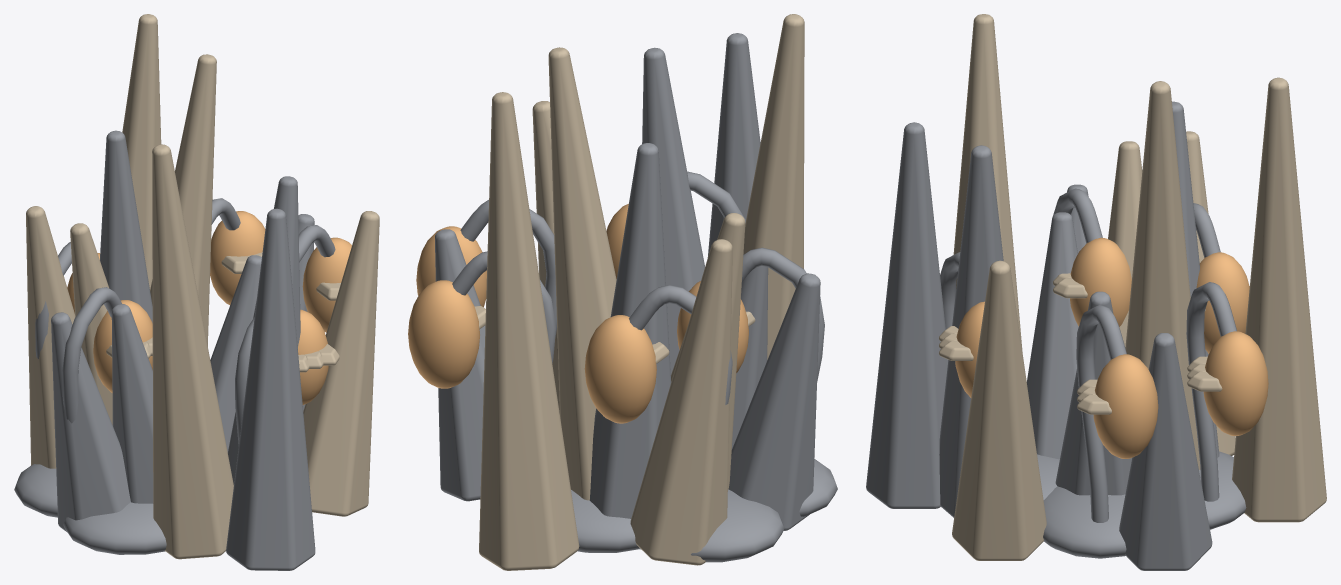
File: bio_crystal_fan_23_near.glb
3 views of the same model, side by side, from view 1: azimuth 30°, elevation 25°; view 2: azimuth 150°, elevation 25°; view 3: azimuth 270°, elevation 25° (orthographic). The views are drawn at different scales.
Visible parts, largest first — view 1: Reflecting mineral prism.007, Reflecting mineral prism.002, Reflecting mineral prism.005, Reflecting mineral prism.004, Reflecting mineral prism.001, Reflecting mineral prism.003, Reflecting mineral prism.012, Reflecting mineral prism.011, Reflecting mineral prism.006, Mineral substrate, Reflecting mineral prism, Reflecting mineral prism.009 (+12 smaller); view 2: Reflecting mineral prism.011, Reflecting mineral prism.001, Reflecting mineral prism.003, Reflecting mineral prism.004, Reflecting mineral prism.006, Reflecting mineral prism.007, Reflecting mineral prism.010, Mineral substrate, Reflecting mineral prism.008, Reflecting mineral prism.002, Pendant spore capsule.001, Pendant spore capsule.003 (+11 smaller); view 3: Reflecting mineral prism.011, Reflecting mineral prism.002, Reflecting mineral prism.005, Reflecting mineral prism.008, Reflecting mineral prism.003, Reflecting mineral prism.010, Reflecting mineral prism.012, Reflecting mineral prism.007, Mineral substrate, Pendant spore capsule.003, Pendant spore capsule, Reflecting mineral prism (+15 smaller).
Boxes of the visible parts, box(x1,y1,x2,y2) form: Reflecting mineral prism.007: box(152, 144, 233, 559); Reflecting mineral prism.002: box(226, 208, 315, 570); Reflecting mineral prism.005: box(303, 211, 379, 516); Reflecting mineral prism.004: box(51, 312, 130, 531); Reflecting mineral prism.001: box(26, 206, 75, 468); Reflecting mineral prism.003: box(150, 54, 216, 346); Reflecting mineral prism.012: box(111, 304, 153, 503); Reflecting mineral prism.011: box(122, 14, 161, 289); Reflecting mineral prism.006: box(100, 130, 152, 322); Mineral substrate: box(14, 464, 166, 554); Reflecting mineral prism: box(210, 255, 261, 452); Reflecting mineral prism.009: box(70, 223, 112, 424); Reflecting mineral prism.011: box(479, 92, 579, 570); Reflecting mineral prism.001: box(630, 239, 732, 565); Reflecting mineral prism.003: box(548, 47, 616, 500); Reflecting mineral prism.004: box(728, 273, 820, 530); Reflecting mineral prism.006: box(589, 143, 671, 518); Reflecting mineral prism.007: box(743, 14, 804, 359); Reflecting mineral prism.010: box(642, 47, 704, 374); Mineral substrate: box(571, 459, 837, 562); Reflecting mineral prism.008: box(435, 229, 485, 501); Reflecting mineral prism.002: box(707, 33, 760, 257); Pendant spore capsule.001: box(584, 315, 656, 423); Pendant spore capsule.003: box(408, 280, 479, 388); Reflecting mineral prism.011: box(1232, 77, 1326, 522); Reflecting mineral prism.002: box(866, 122, 948, 508); Reflecting mineral prism.005: box(952, 260, 1046, 560); Reflecting mineral prism.008: box(1119, 333, 1212, 570); Reflecting mineral prism.003: box(1125, 81, 1200, 469); Reflecting mineral prism.010: box(939, 145, 1003, 517); Reflecting mineral prism.012: box(1026, 212, 1078, 459); Reflecting mineral prism.007: box(953, 14, 1022, 349); Mineral substrate: box(1037, 451, 1246, 558); Pendant spore capsule.003: box(1203, 331, 1268, 436); Pendant spore capsule: box(1093, 354, 1158, 458); Reflecting mineral prism: box(1055, 291, 1131, 495).
Bounding box in the file's own units: 1.65 × 1.97 × 1.83.
